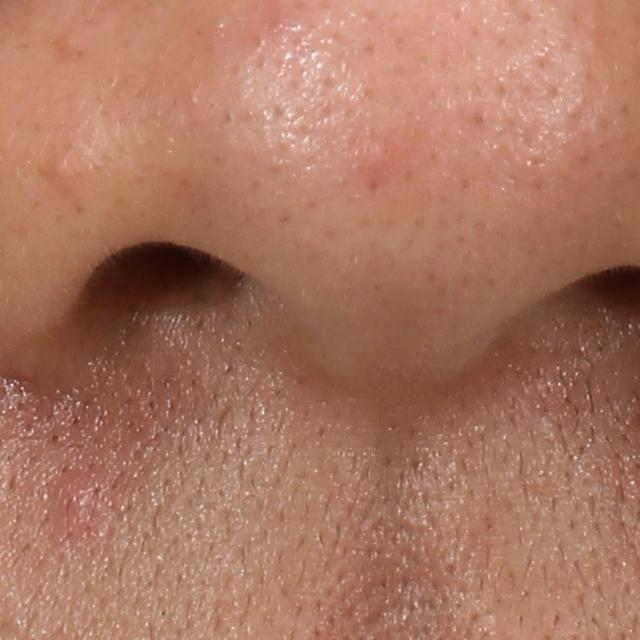comedo: (46, 153, 76, 180)
papule: (44, 470, 107, 540)
